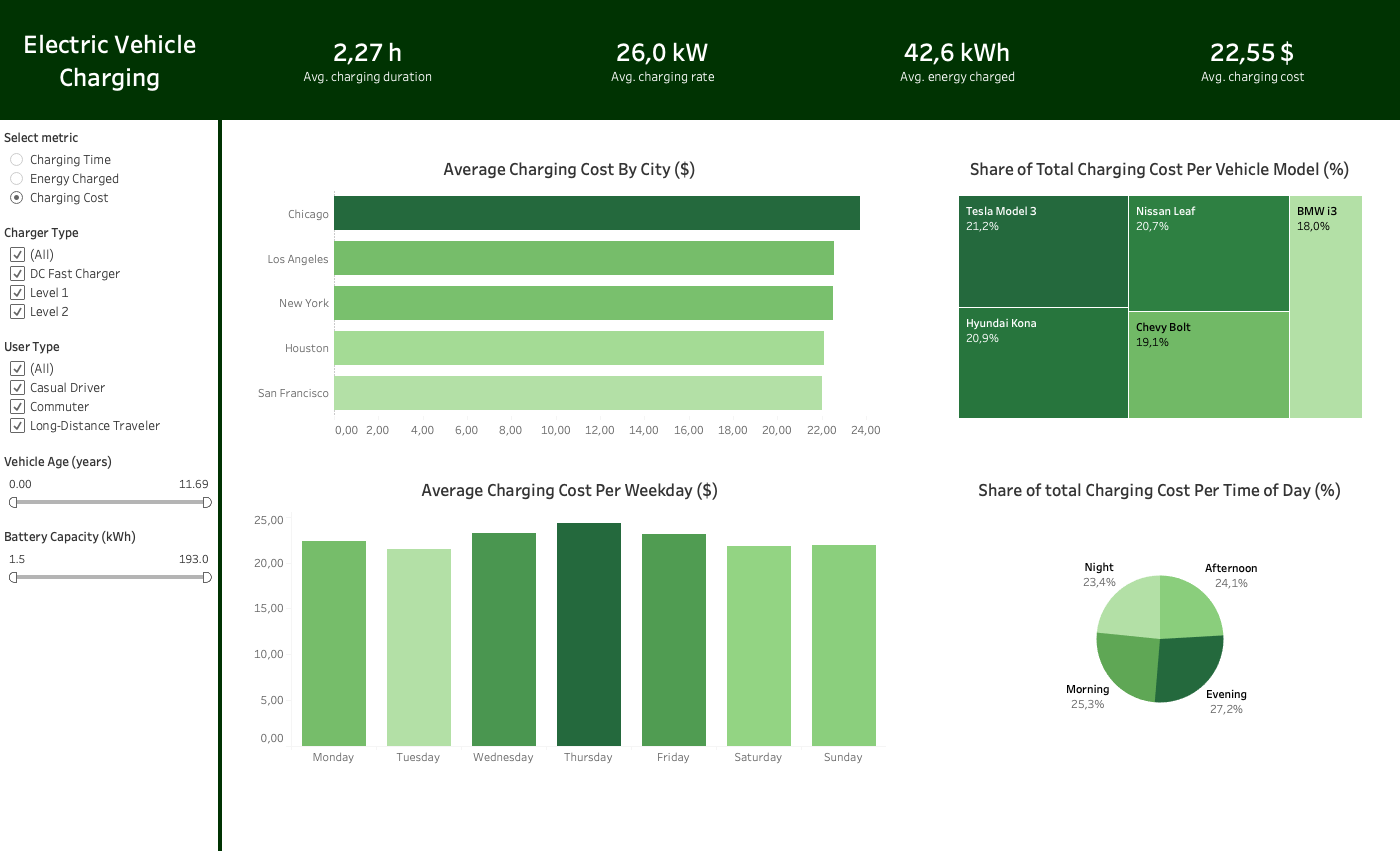

The dashboard page shown, as its layout file describes it:
{"tool":"tableau","page":{"name":"EV Charging Dashboard","canvas":[1400,800],"ordinal":0},"visuals":[{"type":"text","box":[0,0,220,120]},{"type":"worksheet","title":"Avg. Charging duration","mark":"Automatic","box":[220,0,295,120]},{"type":"worksheet","title":"Avg. Charging rate","mark":"Automatic","box":[515,0,295,120]},{"type":"worksheet","title":"Avg. Energy charged","mark":"Automatic","box":[810,0,295,120]},{"type":"worksheet","title":"Avg. Charging cost","mark":"Automatic","box":[1105,0,295,120]},{"type":"parameter","param":"[Parameters].[Parameter 1]","box":[0,125,220,95]},{"type":"worksheet","title":"By city","mark":"Automatic","rows":["Charging Station Location"],"cols":["Calculation_1638606579324022784"],"box":[250,150,640,310]},{"type":"worksheet","title":"Vehicle model","mark":"Automatic","box":[950,150,420,310]},{"type":"filter","title":"By city","param":"[federated.1dpal3w1wo6gg41cfekdp1fyys2p].[none:Charger Type:nk]","box":[0,220,220,114]},{"type":"filter","title":"By city","param":"[federated.1dpal3w1wo6gg41cfekdp1fyys2p].[none:User Type:nk]","box":[0,334,220,115]},{"type":"filter","title":"By city","param":"[federated.1dpal3w1wo6gg41cfekdp1fyys2p].[none:Vehicle Age (years):qk]","box":[0,449,220,75]},{"type":"worksheet","title":"Weekday","mark":"Automatic","rows":["Calculation_1638606579324022784"],"cols":["Day of Week"],"box":[250,460,640,310]},{"type":"worksheet","title":"Time of day","mark":"Pie","box":[950,460,420,310]},{"type":"filter","title":"By city","param":"[federated.1dpal3w1wo6gg41cfekdp1fyys2p].[none:Battery Capacity (kWh):qk]","box":[0,524,220,75]}]}

Visuals, with their boxes on the page's 1400x800 design canvas (x1, y1, x2, y2). These are canvas units, not pixel positions in the 1400x851 screenshot, which may show the page scaled, cropped or inside an application window:
text: <box>0,0,220,120</box>
"Avg. Charging duration" worksheet: <box>220,0,515,120</box>
"Avg. Charging rate" worksheet: <box>515,0,810,120</box>
"Avg. Energy charged" worksheet: <box>810,0,1105,120</box>
"Avg. Charging cost" worksheet: <box>1105,0,1400,120</box>
parameter: <box>0,125,220,220</box>
"By city" worksheet: <box>250,150,890,460</box>
"Vehicle model" worksheet: <box>950,150,1370,460</box>
"By city" filter: <box>0,220,220,334</box>
"By city" filter: <box>0,334,220,449</box>
"By city" filter: <box>0,449,220,524</box>
"Weekday" worksheet: <box>250,460,890,770</box>
"Time of day" worksheet (Pie marks): <box>950,460,1370,770</box>
"By city" filter: <box>0,524,220,599</box>
